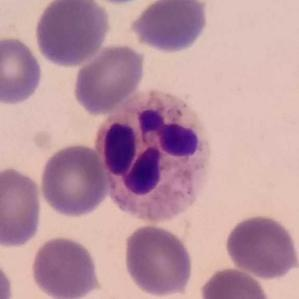Neutrophil: (94, 80, 216, 227)
RBC: (38, 141, 110, 219), (71, 42, 147, 115), (122, 222, 195, 298), (32, 0, 111, 68), (223, 212, 299, 280), (29, 234, 103, 299), (128, 0, 211, 55), (0, 164, 45, 250), (0, 34, 45, 106), (197, 266, 273, 299), (0, 257, 15, 299), (99, 0, 143, 6)
